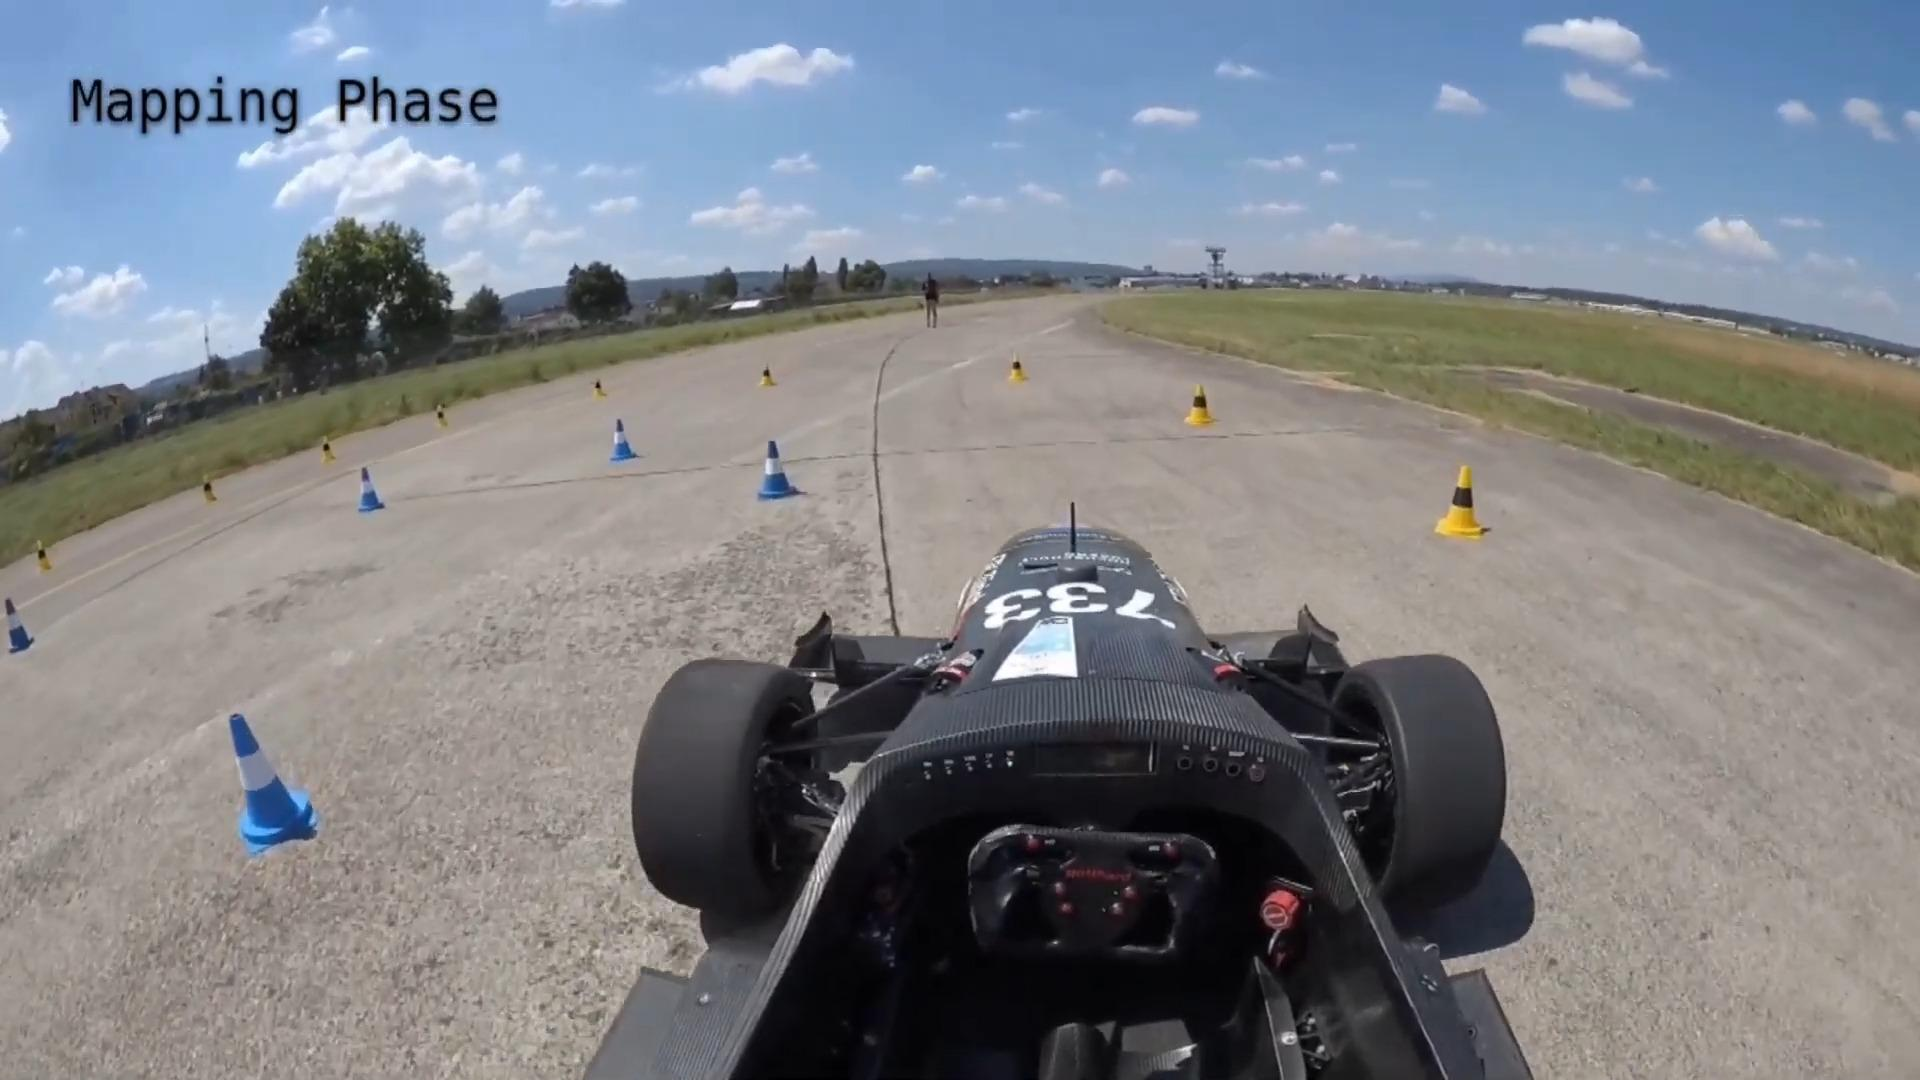blue_cone: (196, 696, 331, 862), (746, 431, 807, 506), (345, 458, 405, 529), (596, 414, 641, 467)
yellow_cone: (1424, 459, 1499, 542), (1187, 376, 1232, 438), (1001, 340, 1030, 398)
